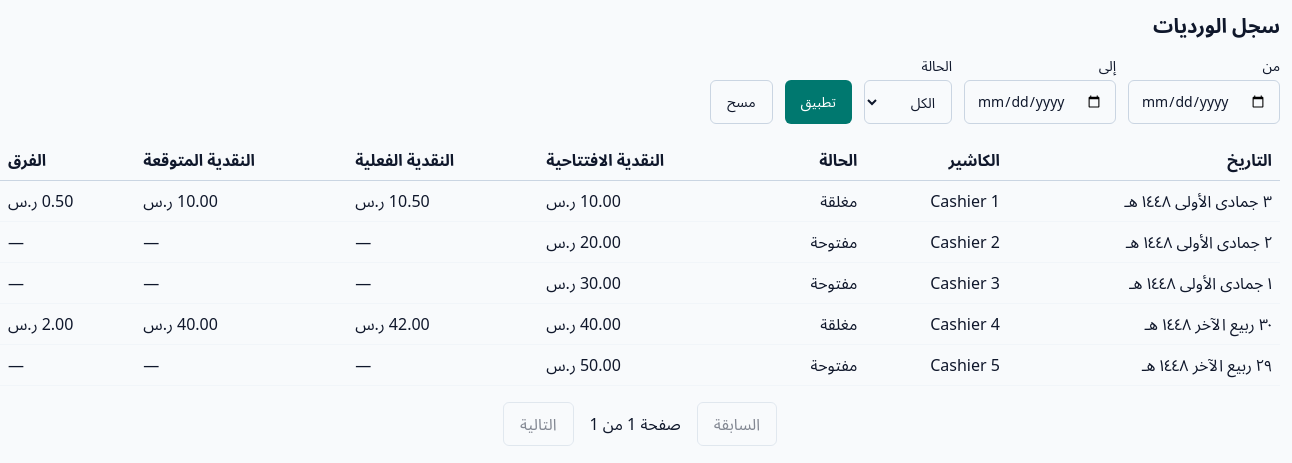
Scenario: ShiftHistoryPage › shows noMatch state when filter yields 0
Check: the table is shown, box x1=0 y1=140 x2=1280 y2=386
Step 1. Type "2030-01-01" into the date field labelled "من" → (1204, 102), box x1=1128 y1=80 x2=1280 y2=124
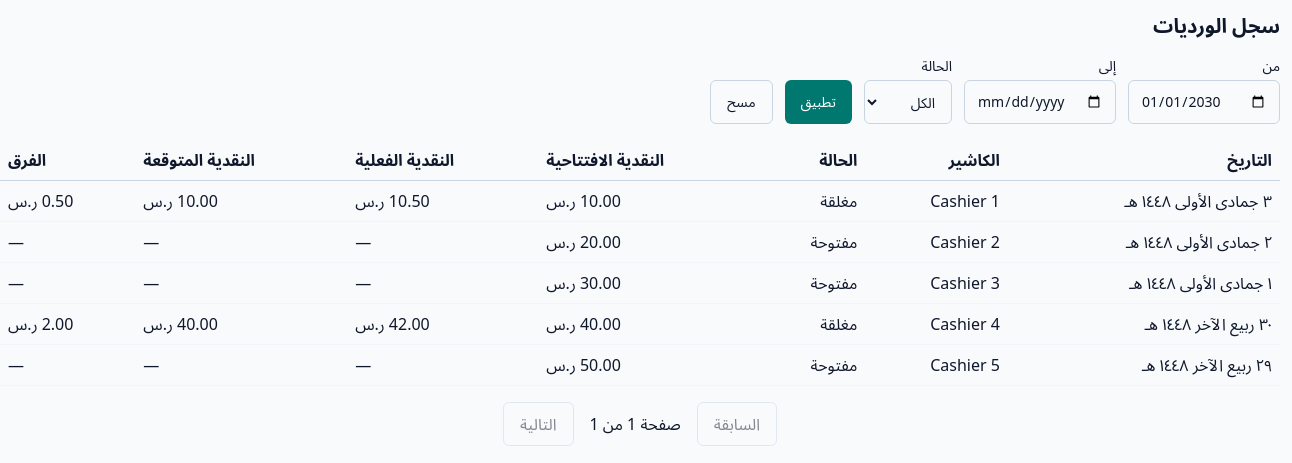
Step 2. Click the button "تطبيق" → (818, 102), box x1=784 y1=80 x2=852 y2=124
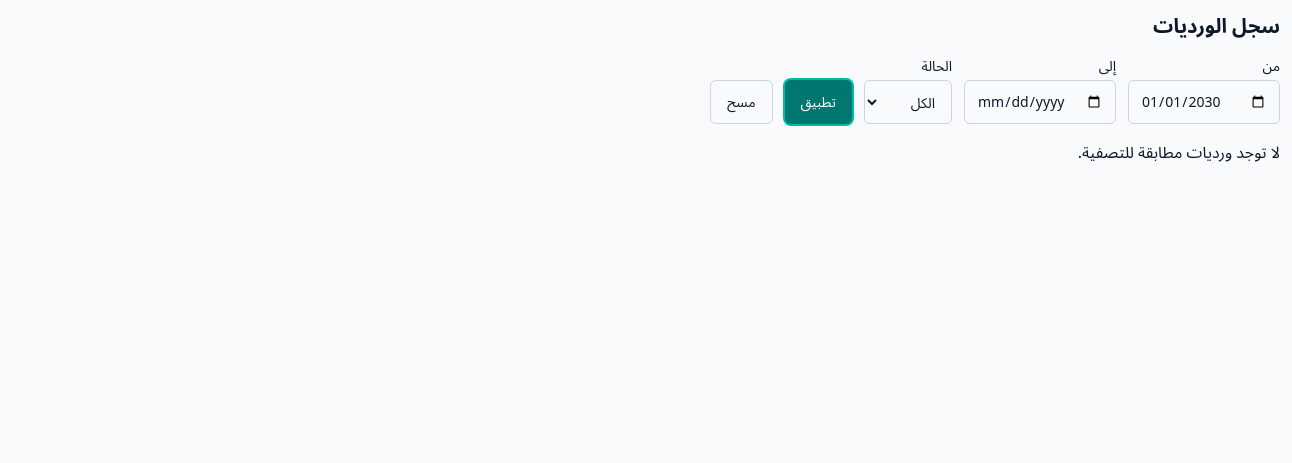
Check: the message reads "لا توجد ورديات مطابقة للتصفية.", box x1=1078 y1=141 x2=1280 y2=163
